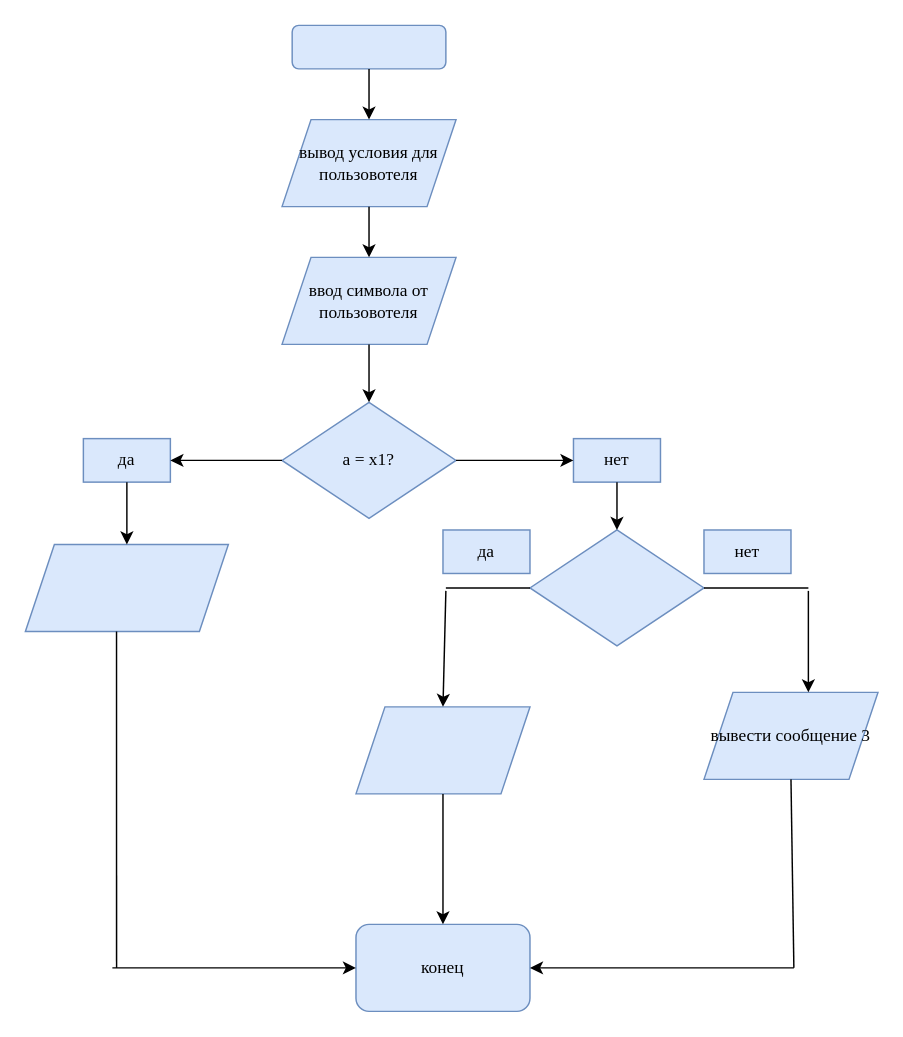
This 903x1037 diagram has some shape labels left out. Here are the shapes that lost their labels. From the top down, the centre of each, then its label:
(368,46): начало
(126,587): вывести сообщение 1
(616,587): a =x2?
(442,749): вывести сообщение 2
